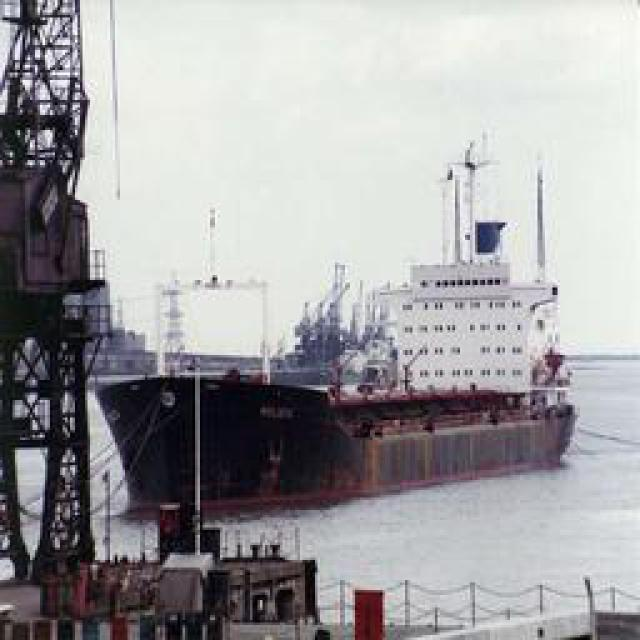Ship: (83, 127, 609, 530)
